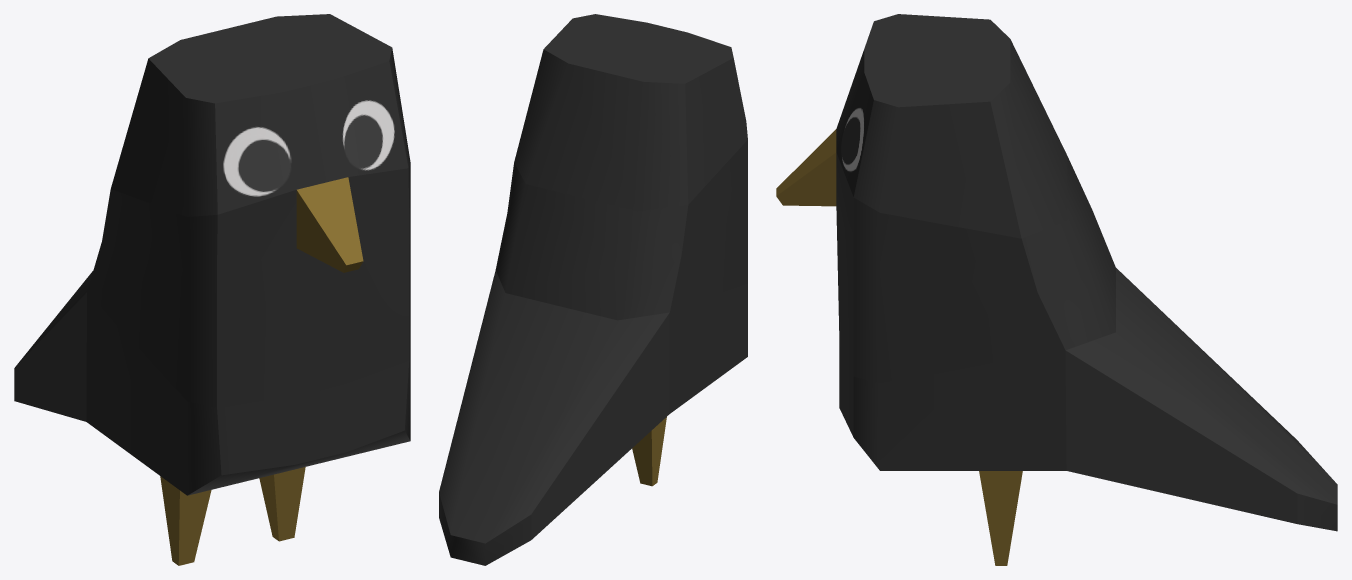
Rendered from Pigeon.fbx.
3 renders of one model, left to right at view 1: azimuth 30°, elevation 25°; view 2: azimuth 150°, elevation 25°; view 3: azimuth 270°, elevation 25°, orthographic. The views are drawn at different scales.
Visible parts, largest first — view 1: pCube3; view 2: pCube3; view 3: pCube3.
Boxes of the visible parts, left/top/right/bottom form: pCube3: left=14, top=14, right=410, bottom=565; pCube3: left=439, top=14, right=747, bottom=565; pCube3: left=776, top=14, right=1337, bottom=565.
Size of the model in its own units: 2.71 by 6 by 6.38.
Materials: 1 (1 with a texture image).
